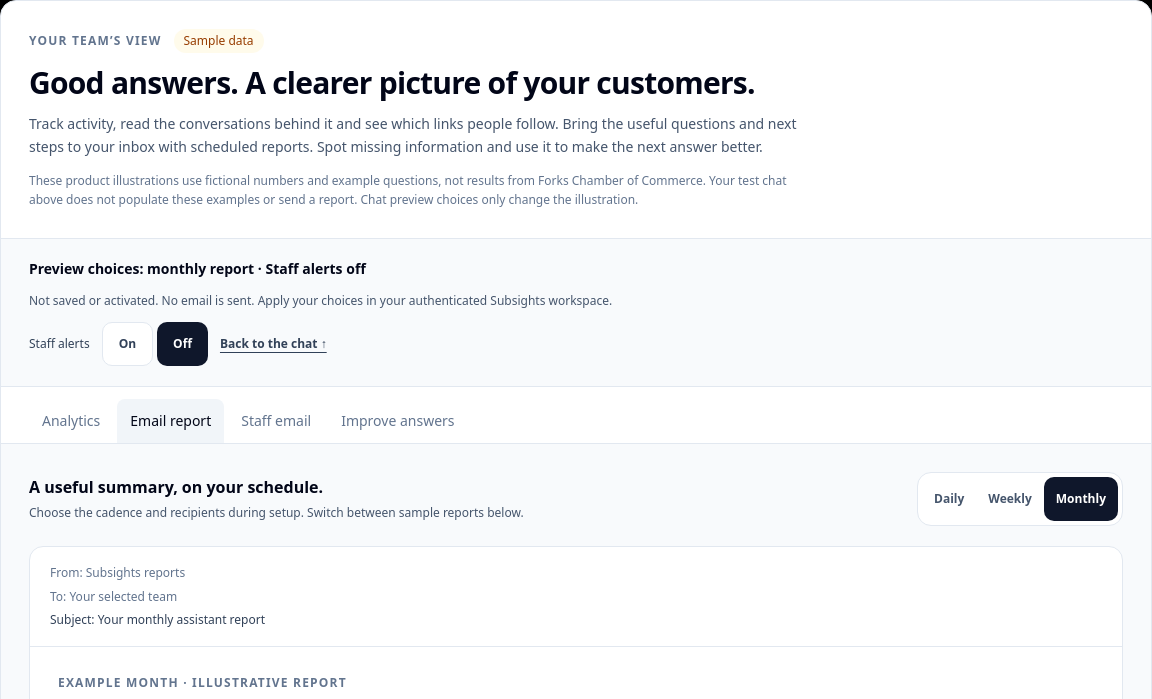
Test: restores a linked monthly/off sample and lets people adjust it without a settings request
What coordinates should you click on to do the following:
click the button "Daily"
I would click on:
 (949, 499)
Its box is left=922, top=477, right=976, bottom=521.
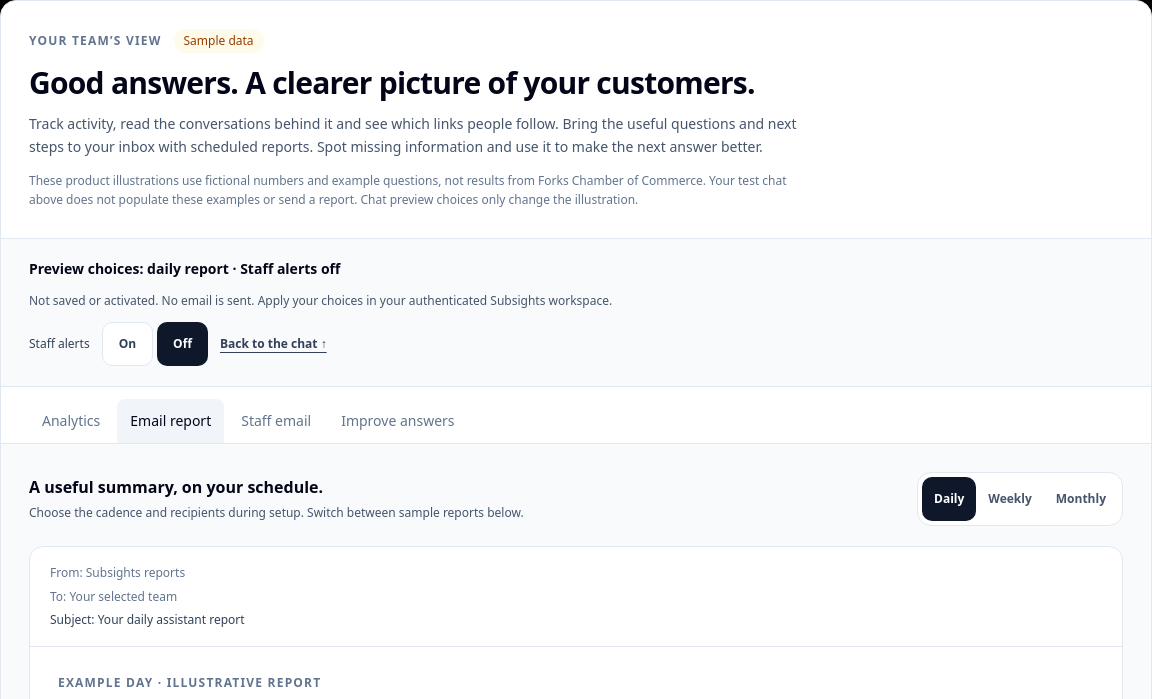
expect the message shows "Staff alerts off": met, box left=29, top=258, right=340, bottom=278
What coordinates should you click on to do the following:
click the button "On"
I would click on:
 (127, 344)
Its box is left=102, top=322, right=153, bottom=366.
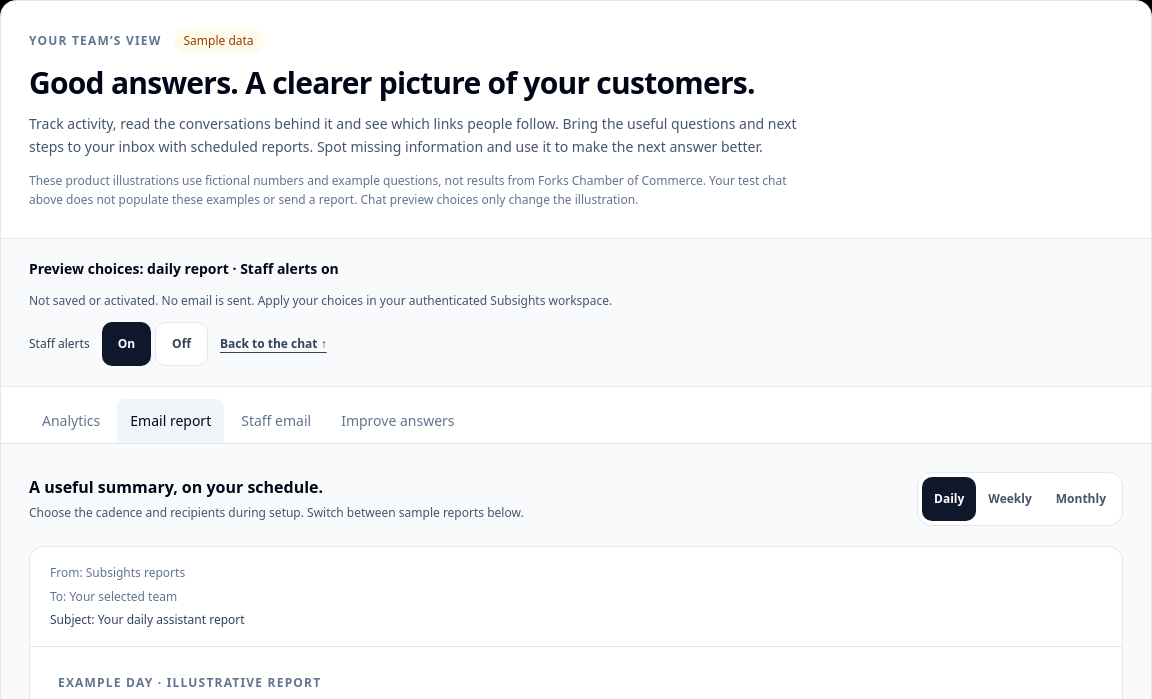
expect the message shows "daily report · Staff alerts on": met, box left=29, top=258, right=339, bottom=278
